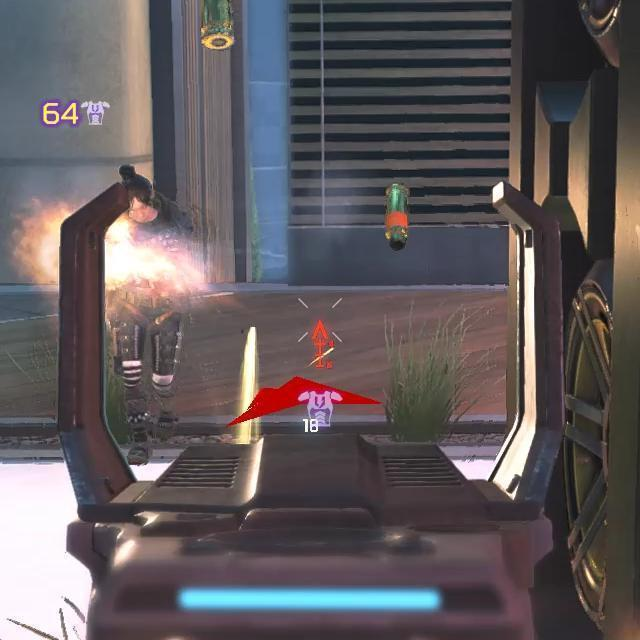avatar: (103, 161, 190, 470)
